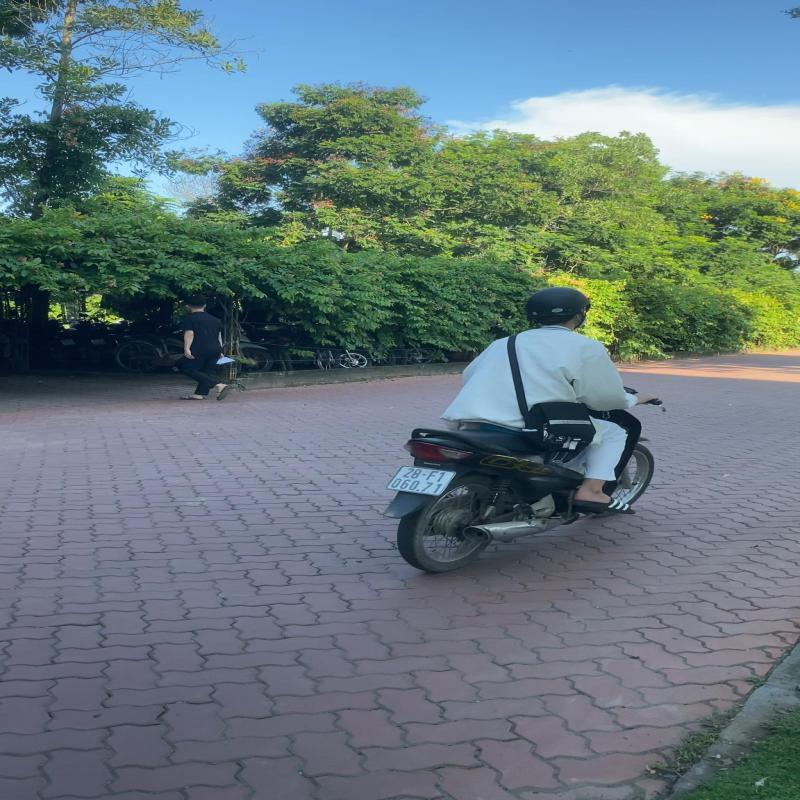helmet: (516, 285, 594, 328)
licenseplate: (382, 464, 458, 497)
motorcyclist: (381, 285, 666, 577)
